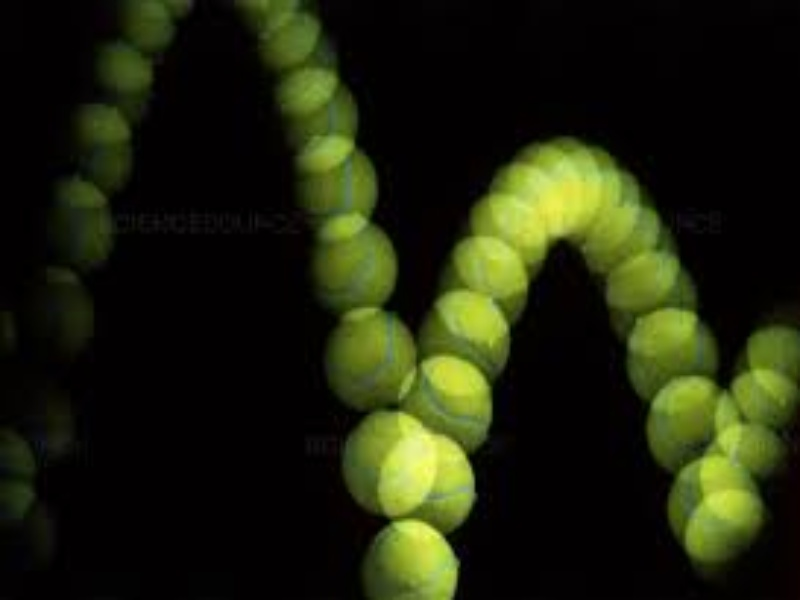tennis ball: (316, 409, 444, 519), (662, 462, 784, 576), (616, 376, 745, 481), (275, 130, 399, 239), (299, 299, 421, 409), (350, 517, 482, 600), (291, 213, 402, 310), (427, 224, 543, 315), (421, 284, 527, 381), (263, 69, 364, 170), (593, 259, 704, 348), (48, 98, 142, 196), (409, 355, 493, 456), (72, 32, 161, 125), (37, 171, 117, 274)
